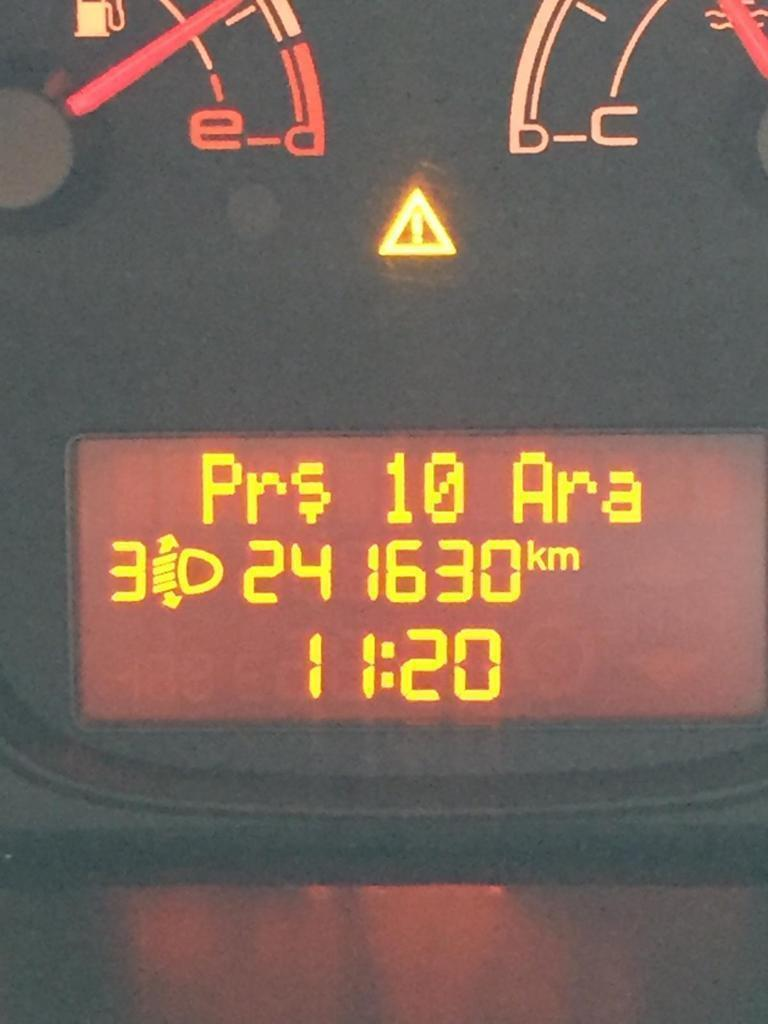0: (450, 626, 504, 703), (420, 448, 466, 528), (477, 535, 520, 605)
1: (384, 448, 416, 531), (304, 628, 328, 703), (359, 630, 380, 704), (362, 541, 380, 603)
2: (398, 625, 446, 705), (239, 538, 286, 608)
3: (431, 535, 475, 605), (107, 537, 147, 603)
4: (288, 540, 335, 603)
6: (383, 537, 427, 603)
X: (510, 448, 554, 524), (199, 450, 242, 525), (290, 459, 331, 526), (553, 466, 598, 525), (598, 469, 642, 524), (244, 470, 285, 524), (547, 544, 580, 571), (380, 638, 396, 690), (526, 538, 546, 571)
odometer: (62, 423, 768, 730)
